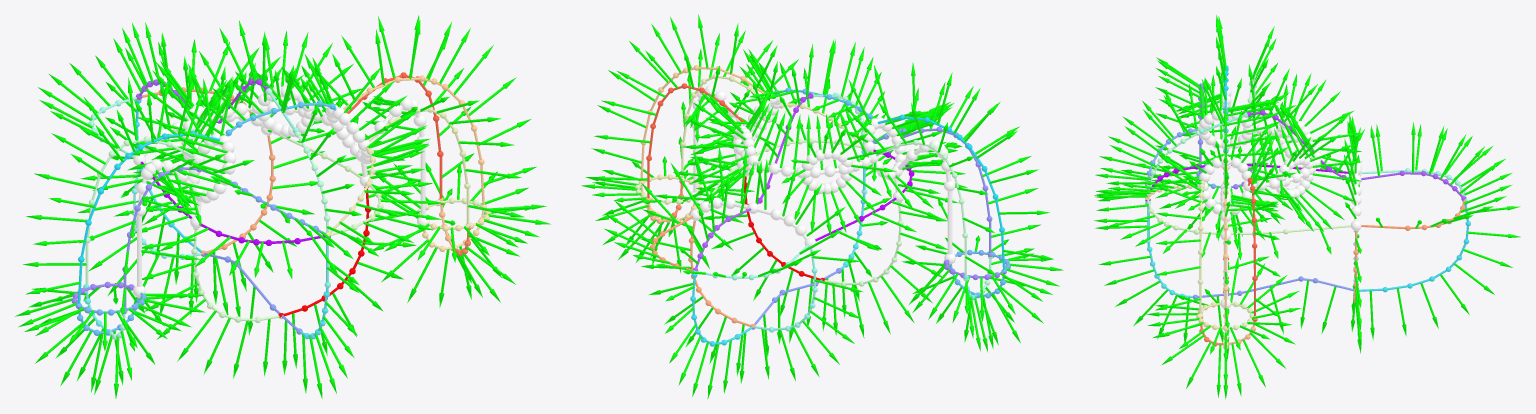
The model's file is scaffolds3d_dog.gltf.
3 views of the same model, side by side, from view 1: azimuth 30°, elevation 25°; view 2: azimuth 150°, elevation 25°; view 3: azimuth 270°, elevation 25° (orthographic). The views are drawn at different scales.
Bounding box in the file's own units: 0.9137 × 0.5691 × 0.7851.
